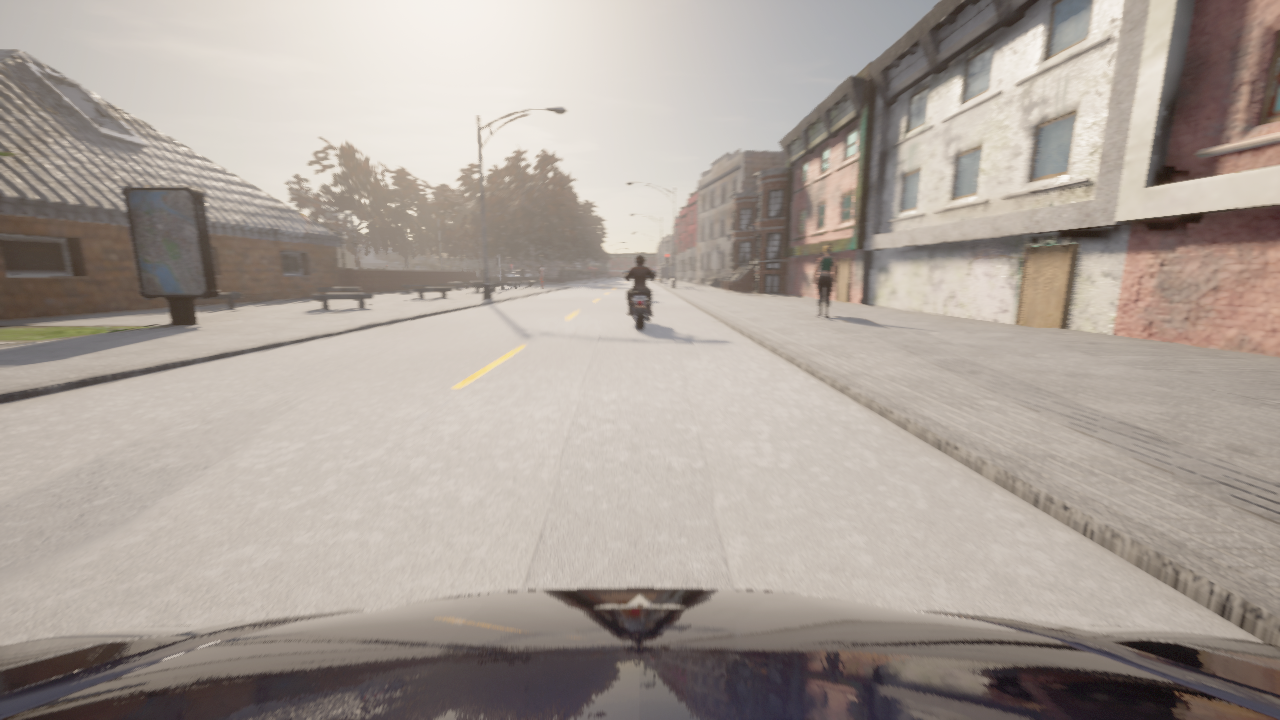cyclist: (0, 588, 1279, 719), (624, 271, 655, 329)
pedestrian: (813, 245, 836, 318)
